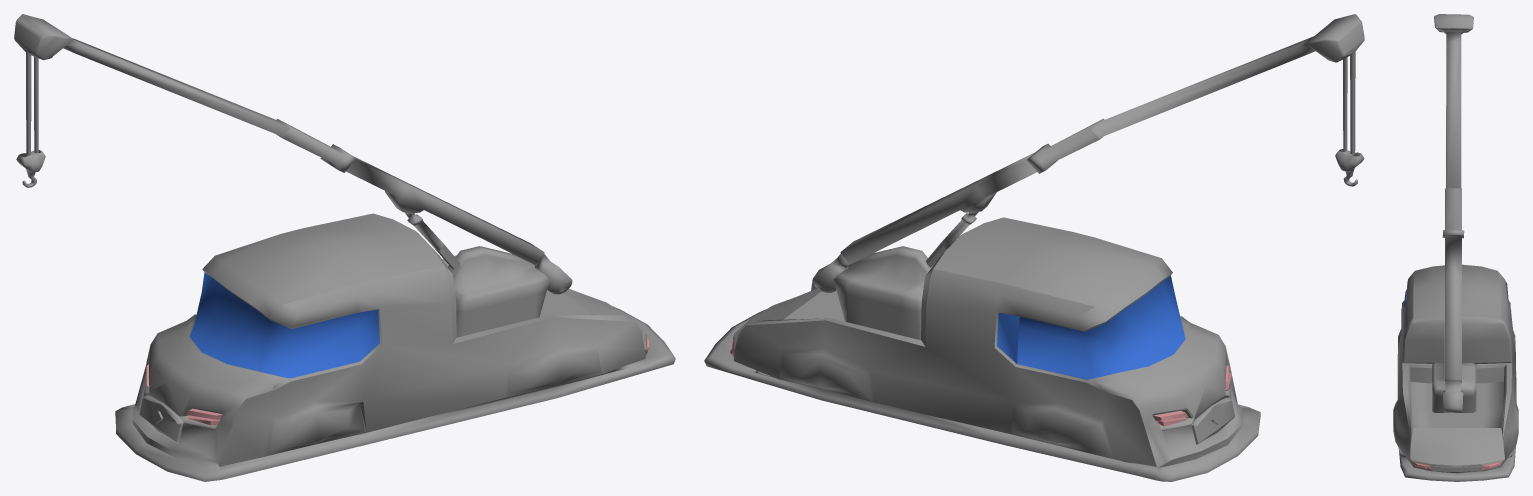
Rendered from cohcegrua.FBX.
The picture shows the model from 3 angles, left to right: view 1: azimuth 30°, elevation 25°; view 2: azimuth 150°, elevation 25°; view 3: azimuth 270°, elevation 25°; orthographic projection. The views are drawn at different scales.
Parts seen in each view (by area): view 1: Box001; view 2: Box001; view 3: Box001.
Boxes of the visible parts, x1=… form: Box001: x1=14, y1=14, x2=675, y2=481; Box001: x1=704, y1=14, x2=1364, y2=481; Box001: x1=1393, y1=14, x2=1518, y2=481.
Bounding box in the file's own units: 630 × 435 × 175.
